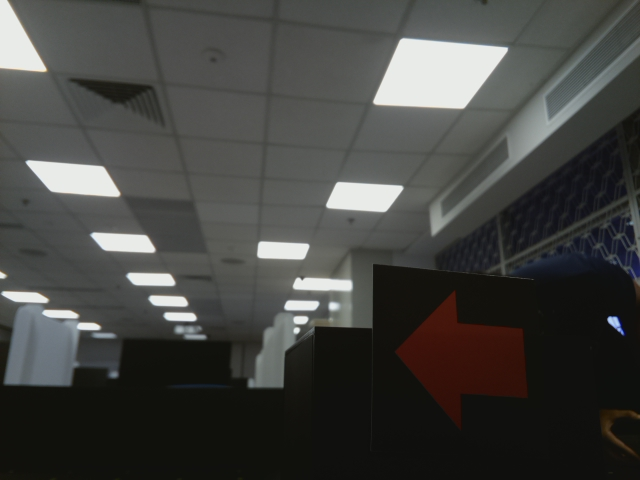left: (384, 281, 531, 443)
